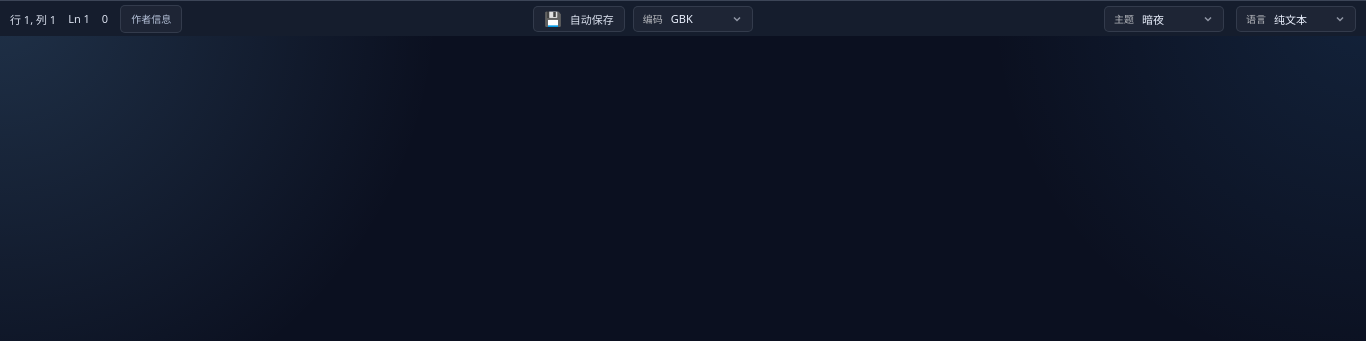
Test case: StatusBar.vue › 渲染测试 › 应支持自定义编码并大写显示
Click the button with test id "encoding-select" at (707, 18), box x1=671 y1=11 x2=743 y2=26
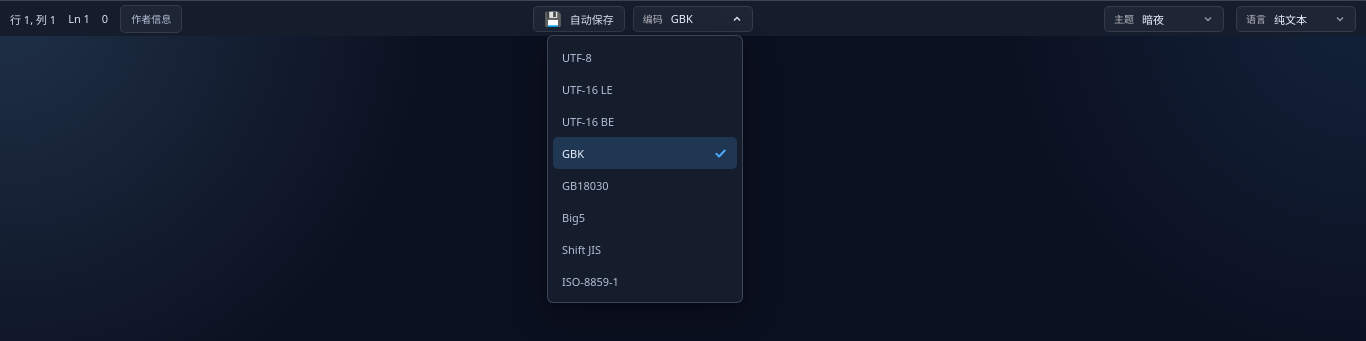
Expected: the option with test id "encoding-select-option-gbk" reads "GBK", x1=553 y1=137 x2=737 y2=169
